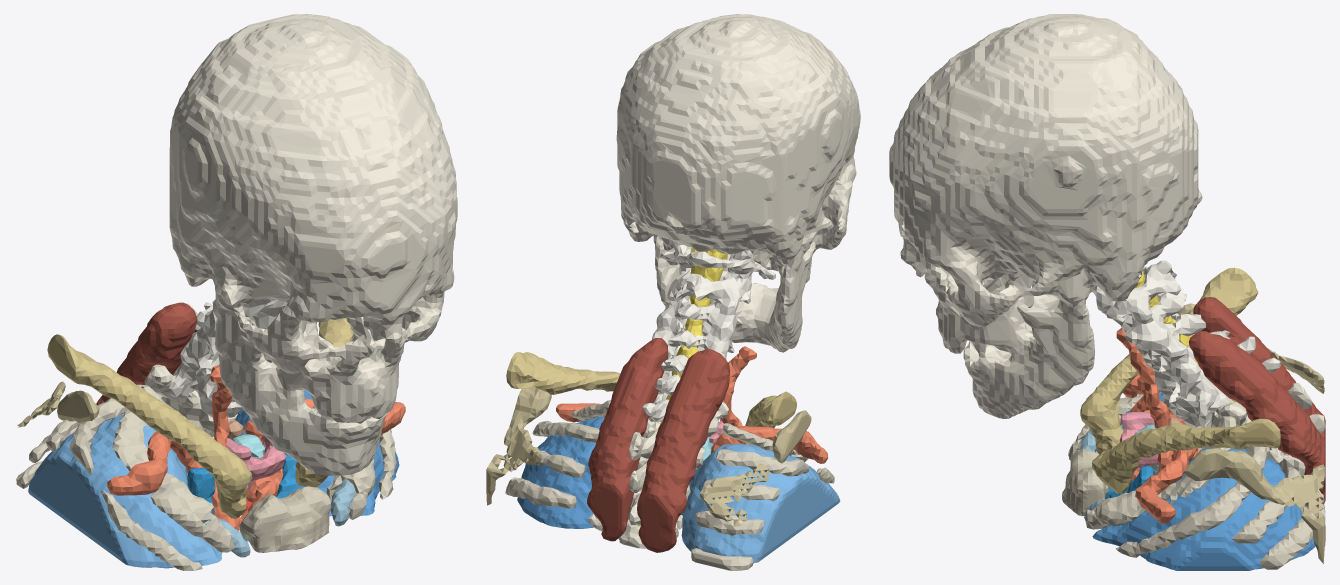
The model's file is cabeca.glb.
3 views of the same model, side by side, from view 1: azimuth 30°, elevation 25°; view 2: azimuth 150°, elevation 25°; view 3: azimuth 270°, elevation 25° (orthographic). The views are drawn at different scales.
Parts seen in each view (by area): view 1: structure_45, structure_14, structure_33, structure_36, structure_21, structure_35, structure_28, structure_41, structure_29, structure_37, structure_22, structure_18 (+2 smaller); view 2: structure_45, structure_41, structure_28, structure_14, structure_33, structure_37, structure_36, structure_15, structure_21, structure_29, structure_32; view 3: structure_45, structure_36, structure_28, structure_41, structure_15, structure_33, structure_37, structure_21, structure_35, structure_29, structure_18.
Boxes of the visible parts, x1,y1,x2,y2 form: structure_45: [169, 14, 457, 475]; structure_14: [28, 415, 222, 568]; structure_33: [16, 385, 396, 570]; structure_36: [47, 318, 353, 519]; structure_21: [107, 365, 405, 530]; structure_35: [239, 486, 331, 552]; structure_28: [168, 298, 287, 417]; structure_41: [96, 302, 197, 405]; structure_29: [120, 364, 237, 438]; structure_37: [17, 338, 353, 427]; structure_22: [187, 454, 304, 541]; structure_18: [226, 435, 286, 489]; structure_45: [616, 14, 860, 352]; structure_41: [587, 338, 729, 552]; structure_28: [642, 241, 775, 421]; structure_14: [681, 443, 840, 563]; structure_33: [505, 400, 834, 570]; structure_37: [486, 387, 811, 526]; structure_36: [506, 352, 796, 428]; structure_15: [517, 416, 604, 528]; structure_21: [556, 346, 828, 463]; structure_29: [588, 410, 721, 548]; structure_32: [638, 247, 727, 525]; structure_45: [889, 14, 1202, 418]; structure_36: [1080, 267, 1280, 493]; structure_28: [1092, 260, 1280, 427]; structure_41: [1188, 297, 1325, 504]; structure_15: [1092, 447, 1315, 570]; structure_33: [1068, 391, 1325, 569]; structure_37: [1177, 303, 1325, 563]; structure_21: [1116, 327, 1197, 523]; structure_35: [1062, 448, 1108, 516]; structure_29: [1194, 383, 1325, 506]; structure_18: [1120, 412, 1158, 467].
Size of the model in its own units: 201 by 322 by 267.
